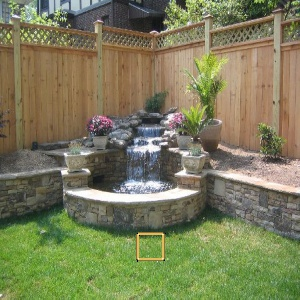square: (136, 231, 165, 261)
